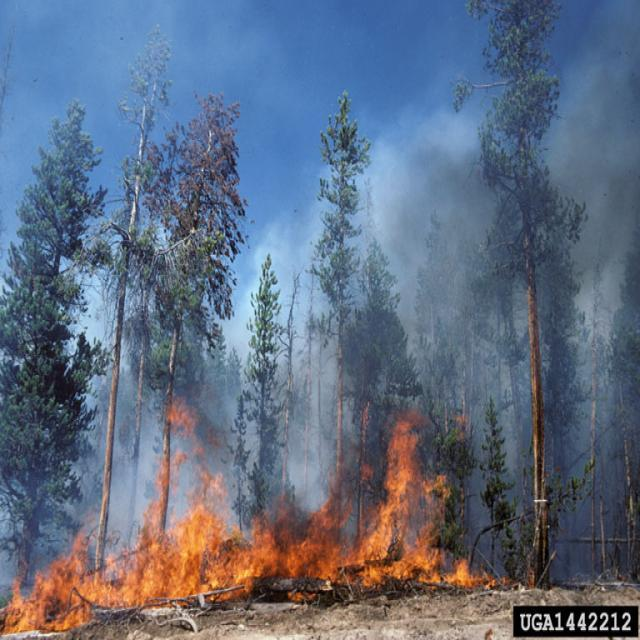Fire: (0, 395, 498, 634)
